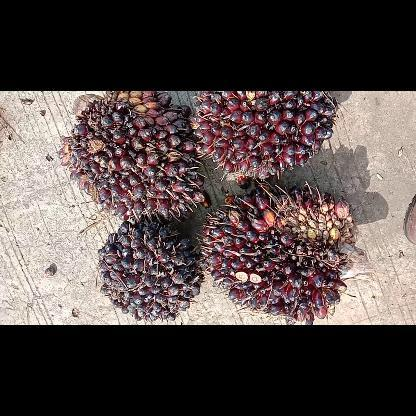TBS mentah: (199, 182, 356, 324), (57, 91, 208, 219), (191, 90, 335, 182), (95, 216, 203, 324)
